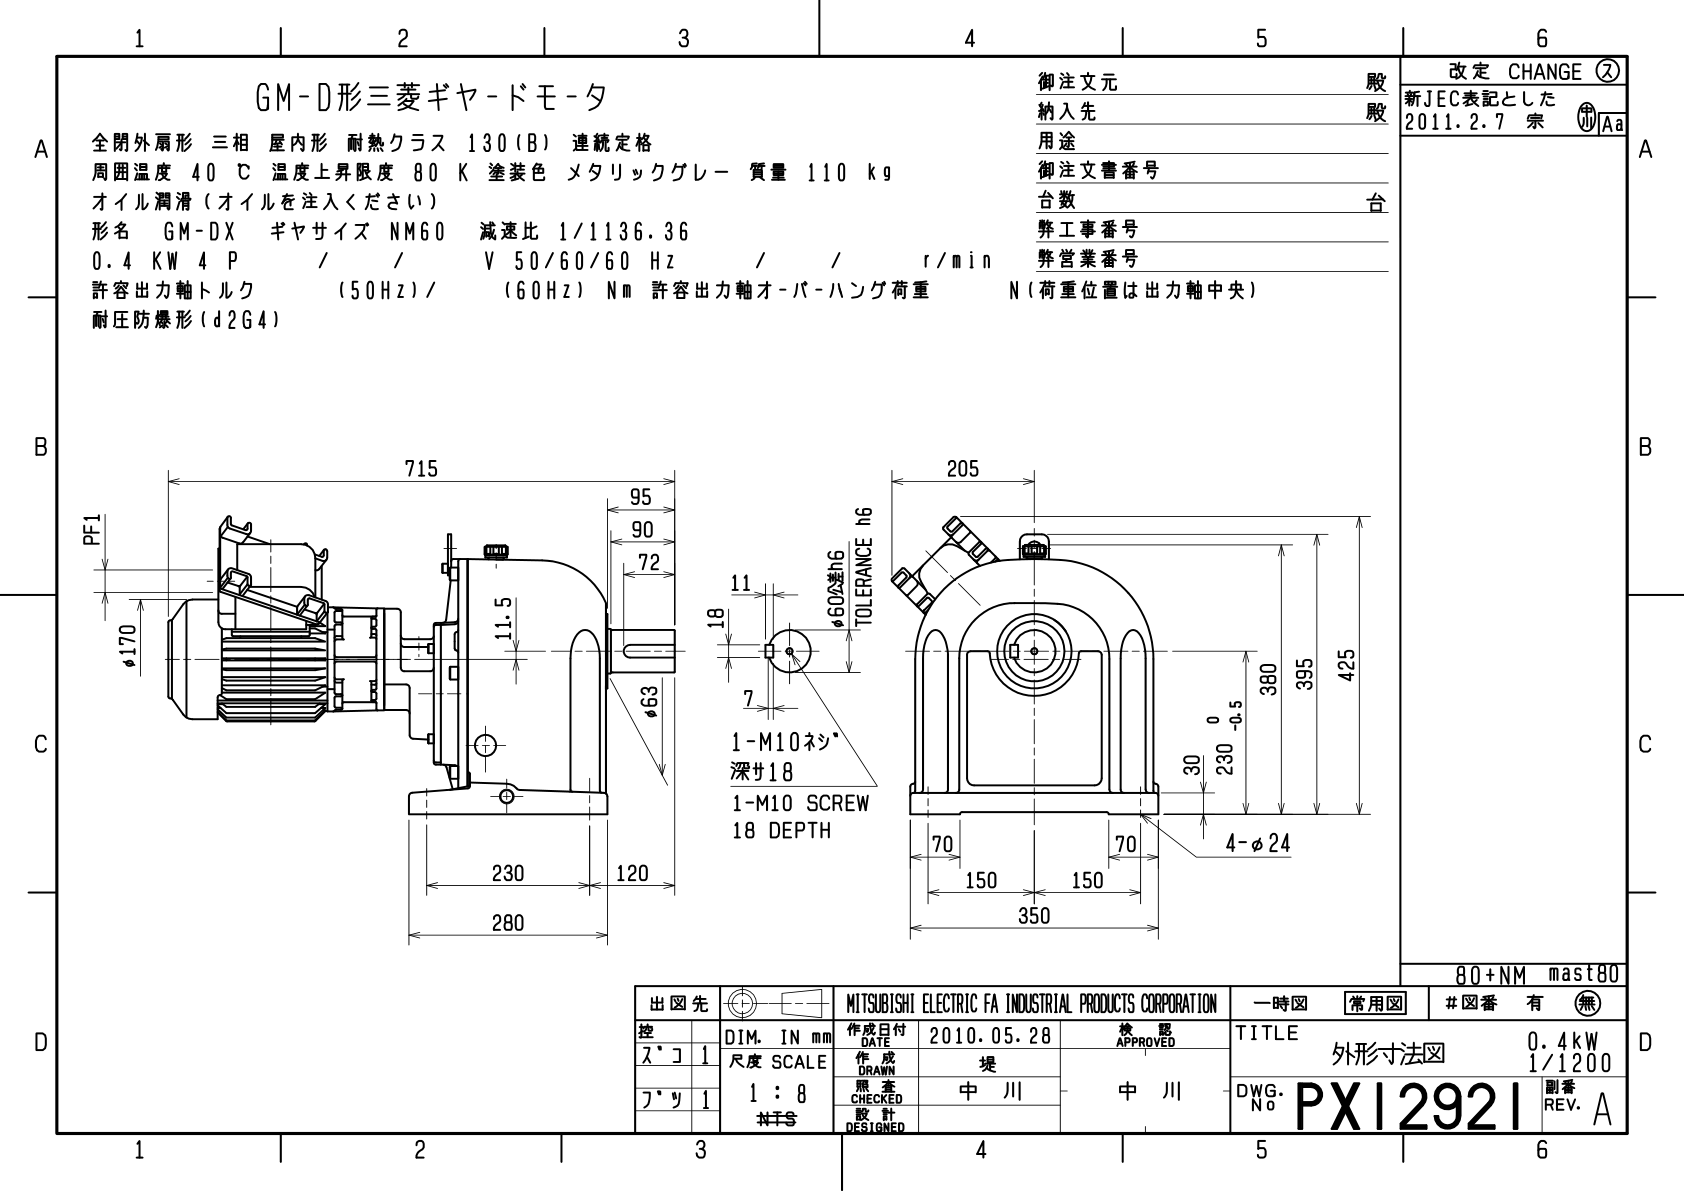GM_D_耐圧屋内_三相_脚: (77, 391, 1381, 951)
